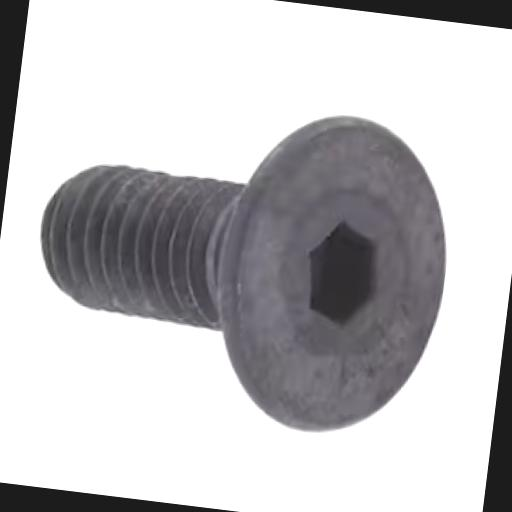Hex-Allen: (204, 98, 465, 448)
